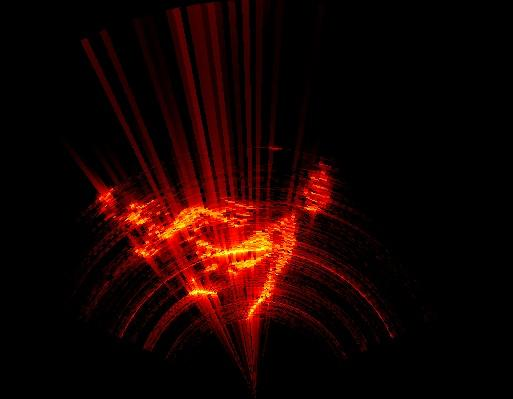shipwreck: (199, 216, 296, 317), (152, 207, 239, 242), (298, 163, 331, 214), (189, 278, 215, 294), (128, 205, 146, 223), (136, 241, 156, 256)
